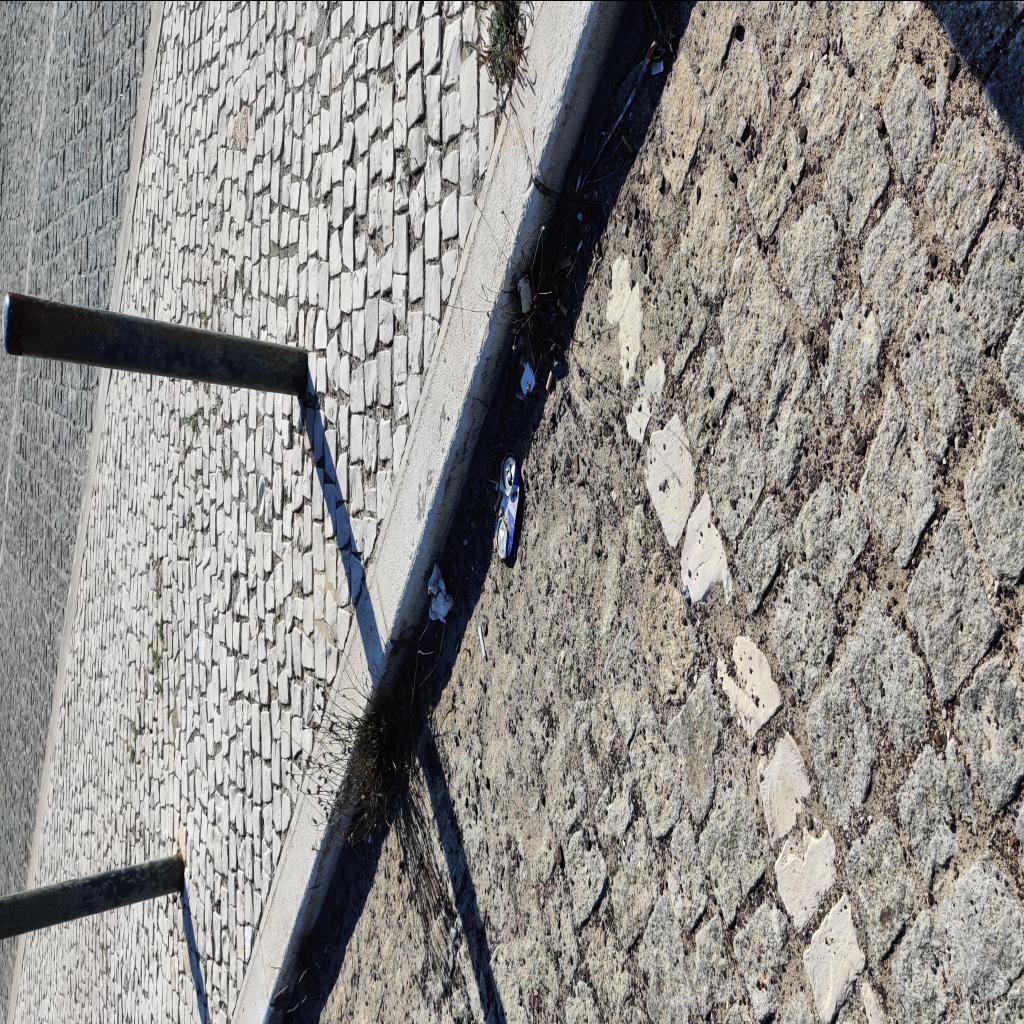Cigarette: (478, 622, 486, 658), (622, 132, 634, 154), (575, 162, 583, 194), (556, 295, 568, 316), (494, 488, 502, 512), (546, 368, 554, 392), (560, 254, 572, 268), (652, 60, 663, 74), (495, 505, 502, 521), (516, 390, 526, 400), (494, 530, 496, 548)
Drink can: (495, 452, 519, 556)
Normal paper: (520, 360, 534, 398), (518, 272, 532, 310)
Plastic film: (570, 39, 658, 187)
Pop tab: (504, 458, 512, 480)
